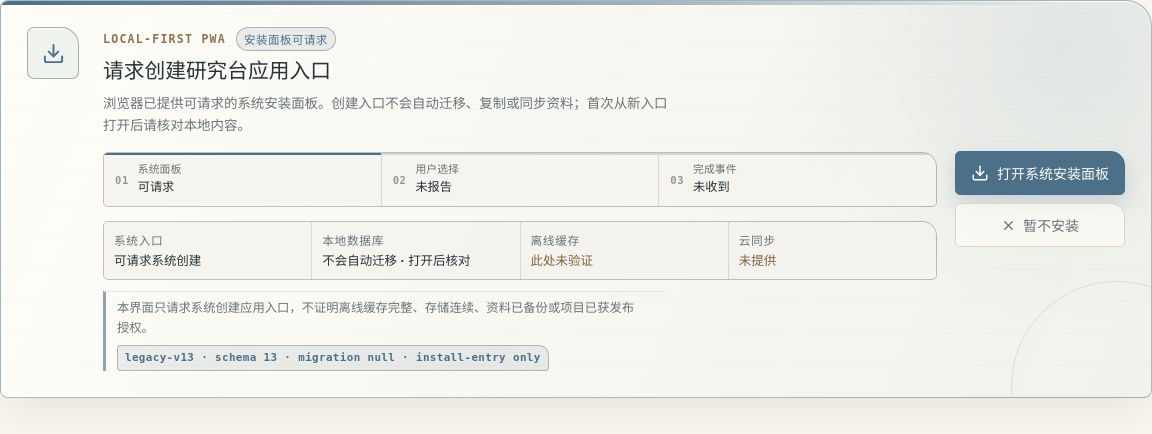
PwaInstallBanner › 安装完成事件抢先到达时不会被迟到的选择结果覆盖
Click the button "打开系统安装面板" at (1040, 173), box [955,151,1125,195]
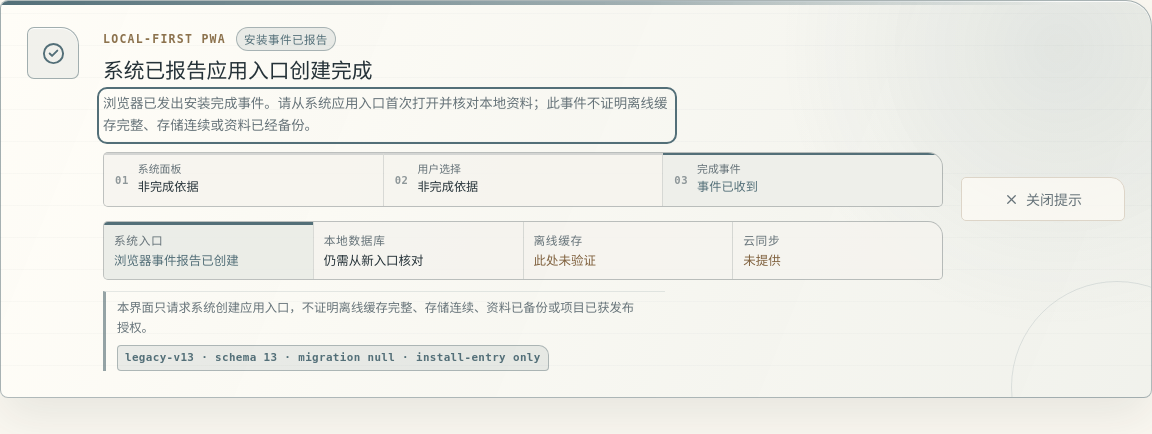
Expected: the text "系统已报告应用入口创建完成" is shown, [103,60,372,82]
Expected: the text "事件已收到" is shown, [697,180,758,194]
